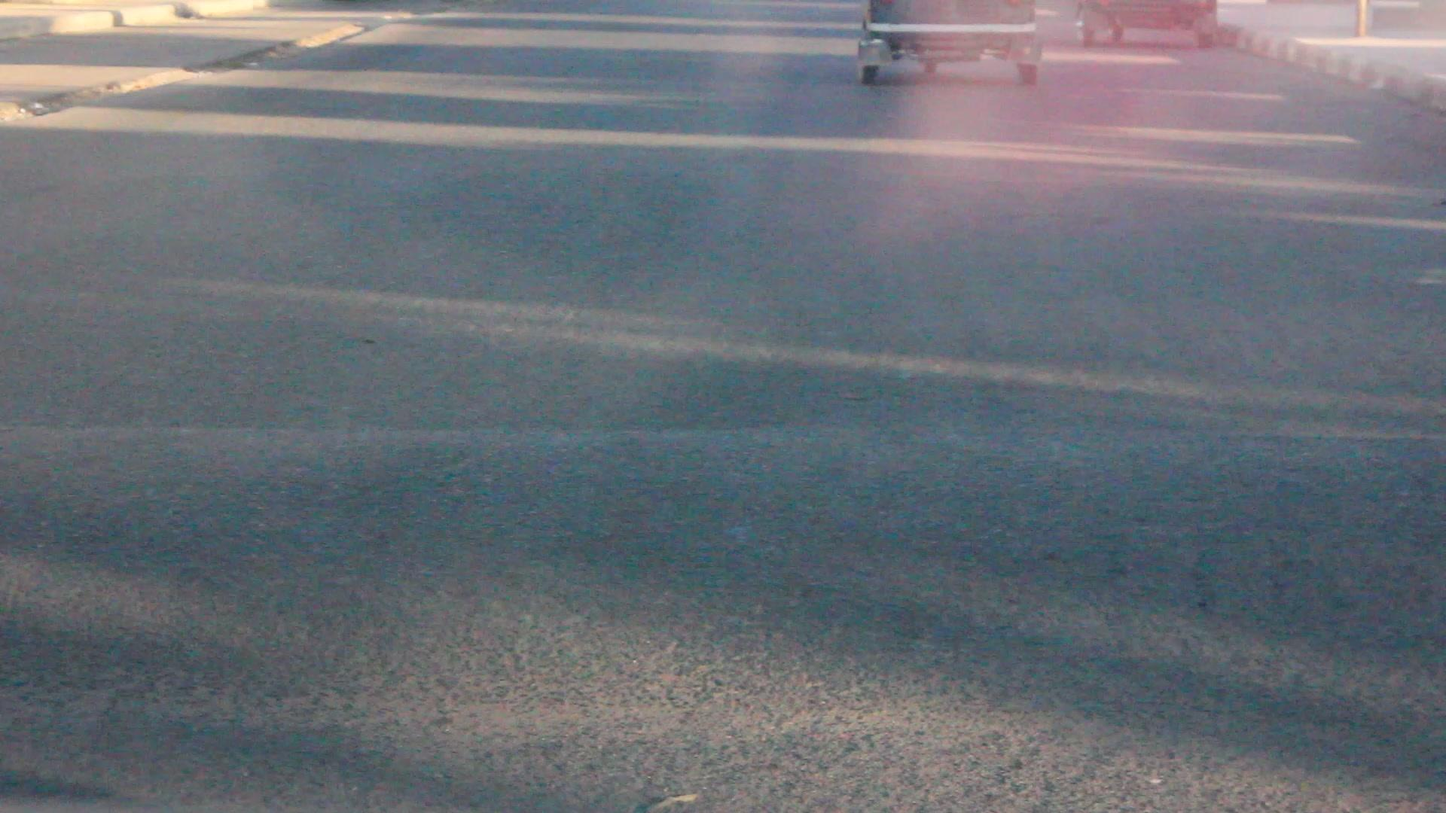Bump: (4, 429, 1446, 717)
